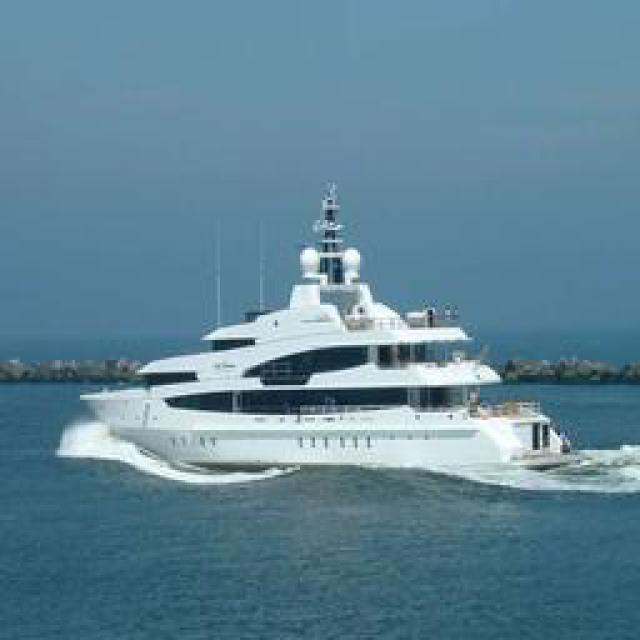Ship: (76, 176, 599, 484)
